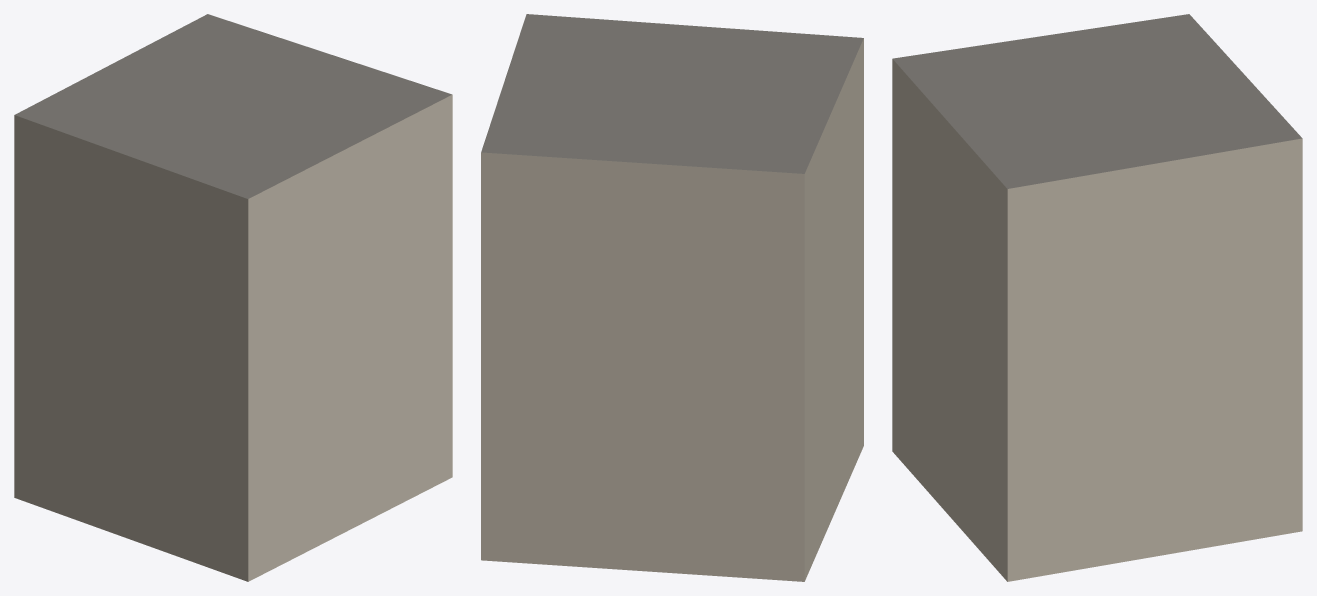
The picture shows the model from 3 angles, left to right: view 1: azimuth 30°, elevation 25°; view 2: azimuth 150°, elevation 25°; view 3: azimuth 270°, elevation 25°; orthographic projection. The views are drawn at different scales.
Visible parts, largest first — view 1: HP-w505659416; view 2: HP-w505659416; view 3: HP-w505659416.
Boxes of the visible parts, x1,y1,x2,y2 form: HP-w505659416: [14, 14, 452, 581]; HP-w505659416: [481, 14, 863, 581]; HP-w505659416: [892, 14, 1302, 581].
Size of the model in its own units: 17.2 by 18 by 17.03.
